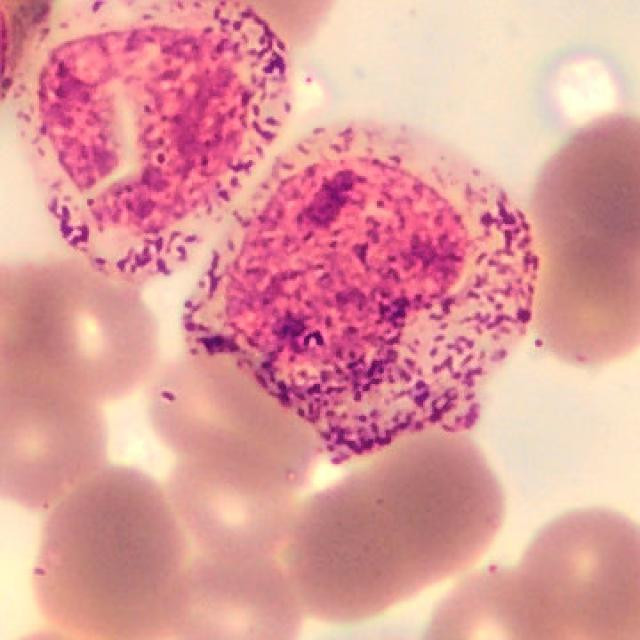Promielocito: (183, 119, 540, 468), (7, 0, 290, 276)
